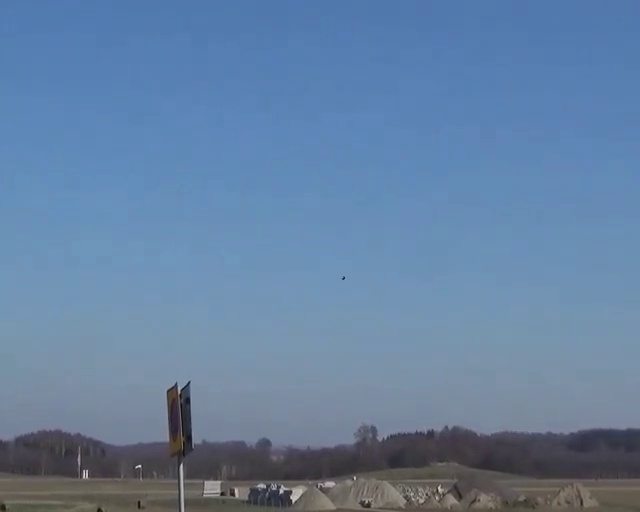BIRD: (336, 277, 343, 283)
